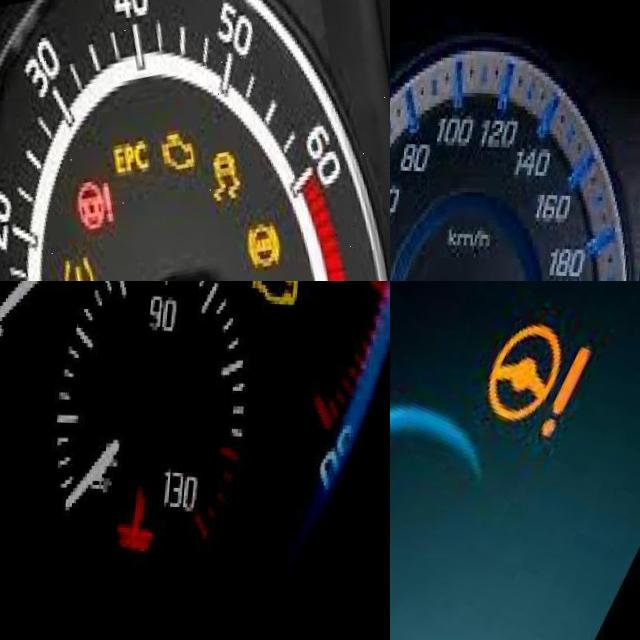Electronic Power Steering: (488, 313, 599, 440)
High Engine Coolant Temperature: (115, 482, 170, 557)
